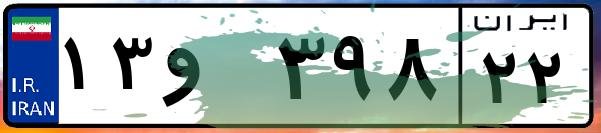1: (57, 26, 110, 100)
2: (475, 38, 525, 113), (525, 38, 570, 115)
3: (270, 28, 330, 110), (110, 28, 158, 98)
8: (385, 28, 445, 110)
9: (330, 28, 385, 110)
و: (158, 20, 270, 120)
